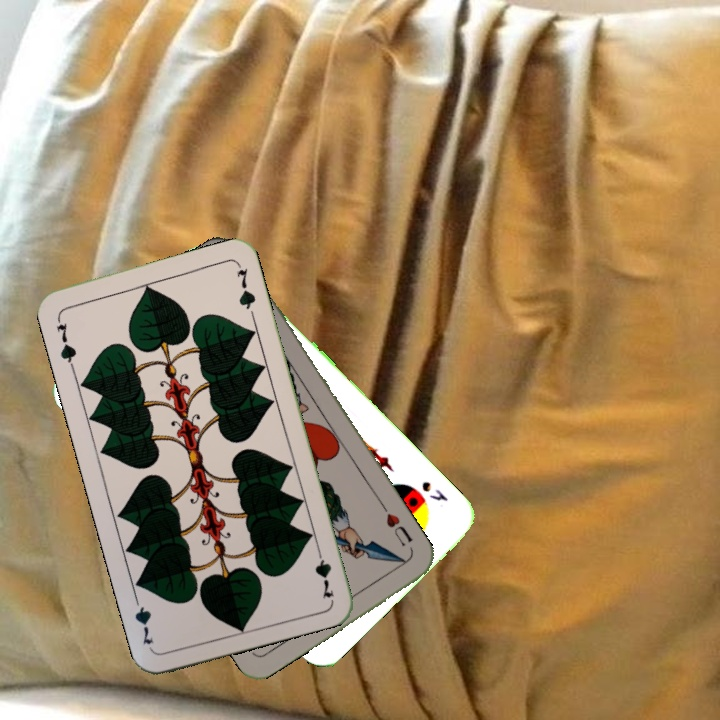G7: (52, 313, 79, 371), (311, 542, 337, 601)
HU: (378, 502, 415, 549)
SK: (417, 477, 451, 504)
